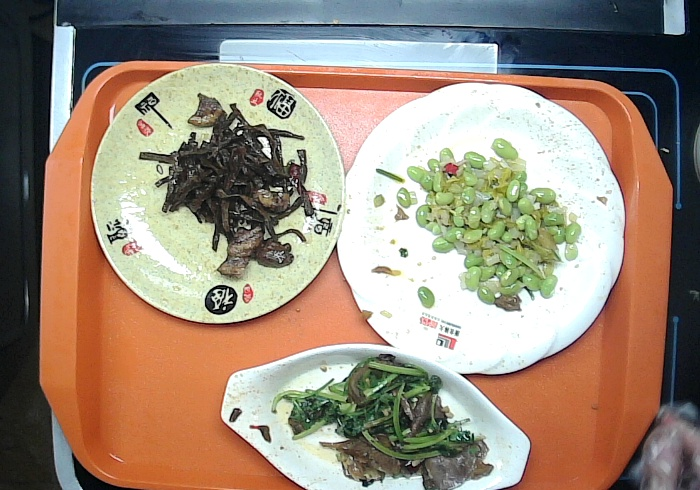NLDX-Bai_Zhe_Yuan_Pan: (333, 79, 629, 381)
NLDX-Fu_Zi_Yuan_Pan: (78, 54, 349, 329)
NLDX-Yu_Pan: (209, 335, 536, 490)
